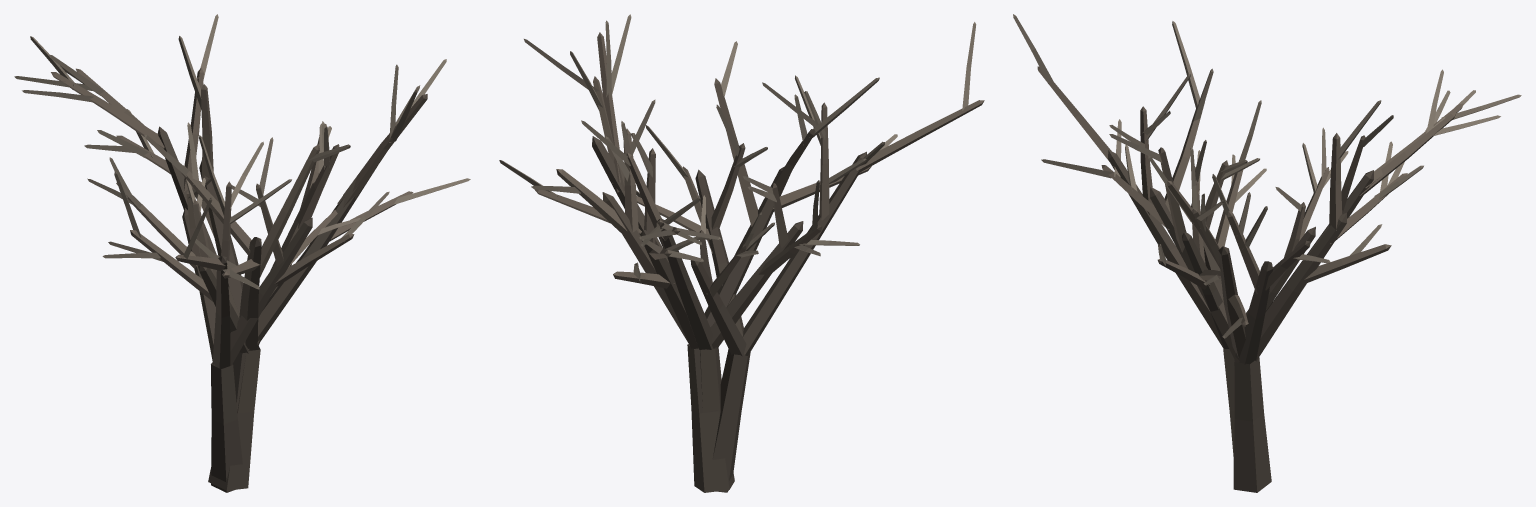
Rendered from deadtree.glb.
3 views of the same model, side by side, from view 1: azimuth 30°, elevation 25°; view 2: azimuth 150°, elevation 25°; view 3: azimuth 270°, elevation 25° (orthographic).
Visible parts, largest first — view 1: deadtree_v0, deadtree_v2, deadtree_v1; view 2: deadtree_v1, deadtree_v0, deadtree_v2; view 3: deadtree_v1, deadtree_v0, deadtree_v2.
Boxes of the visible parts, <box> form: deadtree_v0: <box>87,135,389,492</box>; deadtree_v2: <box>14,14,470,410</box>; deadtree_v1: <box>84,36,350,490</box>; deadtree_v1: <box>531,41,897,492</box>; deadtree_v0: <box>636,22,984,492</box>; deadtree_v2: <box>499,14,859,417</box>; deadtree_v1: <box>1041,21,1423,492</box>; deadtree_v0: <box>1013,14,1348,460</box>; deadtree_v2: <box>1148,69,1521,362</box>.
Size of the model in its own units: 5.2 by 5.24 by 5.96.
